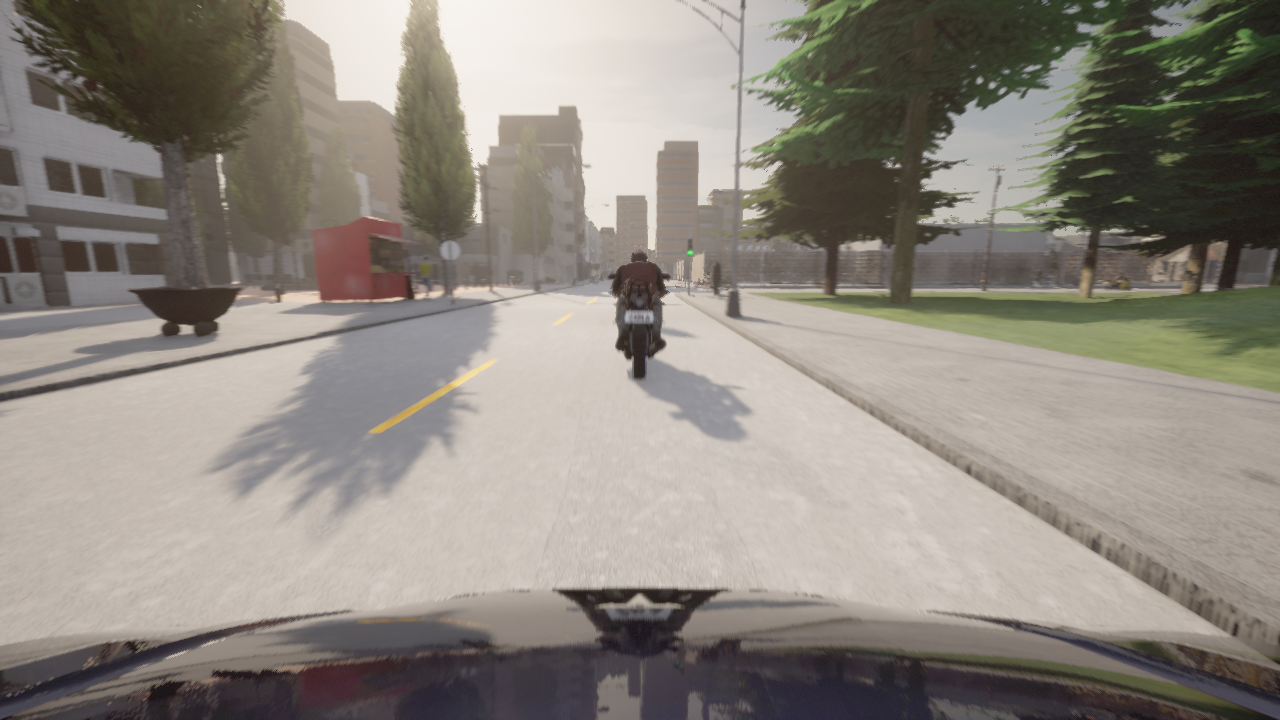cyclist: (0, 588, 1279, 719), (609, 274, 669, 380), (705, 274, 730, 289), (1103, 277, 1131, 289), (1028, 277, 1052, 289), (694, 273, 711, 288), (747, 272, 771, 280), (724, 268, 738, 280), (780, 272, 792, 280), (753, 273, 766, 280), (814, 269, 822, 278)
pedestrian: (418, 256, 433, 301), (711, 260, 722, 295)
